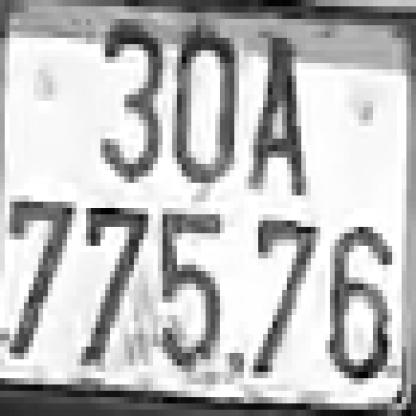0: (177, 32, 234, 189)
3: (100, 25, 162, 183)
5: (158, 208, 220, 366)
6: (325, 221, 387, 378)
7: (9, 202, 76, 346), (249, 214, 310, 366), (86, 208, 148, 353)
A: (244, 38, 306, 195)
